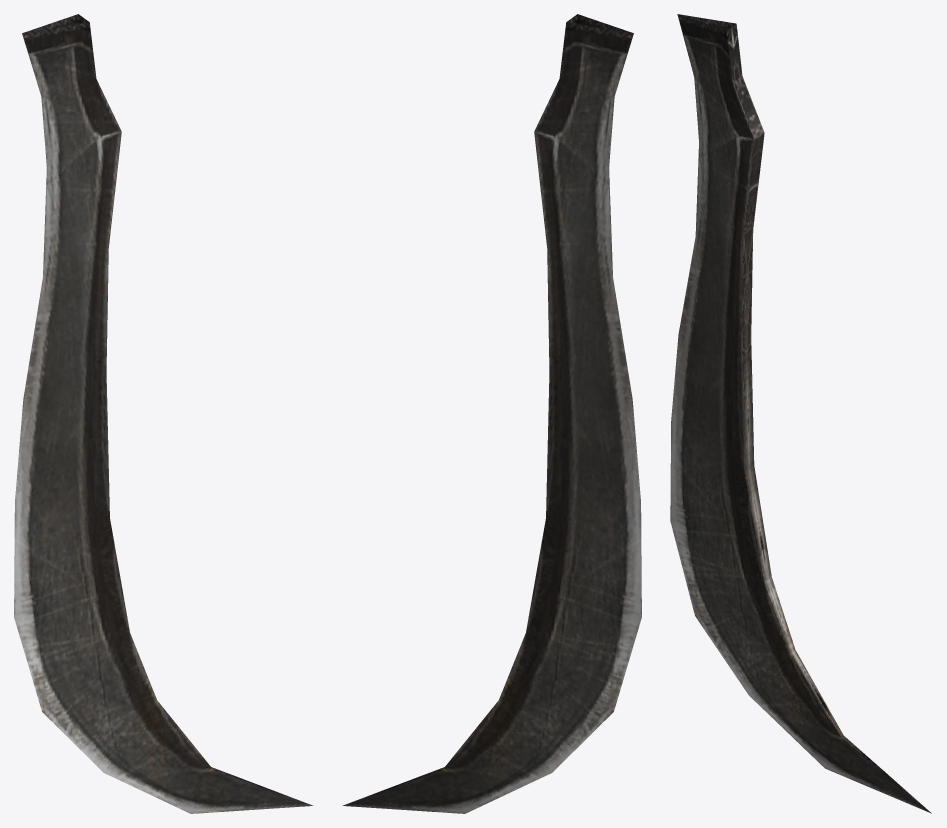
Rendered from Wandao_body.FBX.
3 renders of one model, left to right at view 1: azimuth 30°, elevation 25°; view 2: azimuth 150°, elevation 25°; view 3: azimuth 330°, elevation 25°, orthographic. The views are drawn at different scales.
Parts seen in each view (by area): view 1: Wandao_body; view 2: Wandao_body; view 3: Wandao_body.
Part boxes in pixels (box(x1,y1,x2,y2)): Wandao_body: box(14, 14, 313, 813); Wandao_body: box(342, 14, 641, 813); Wandao_body: box(670, 14, 931, 813).
Size of the model in its own units: 31.18 by 83.83 by 2.05.
1 material, 1 textured.
